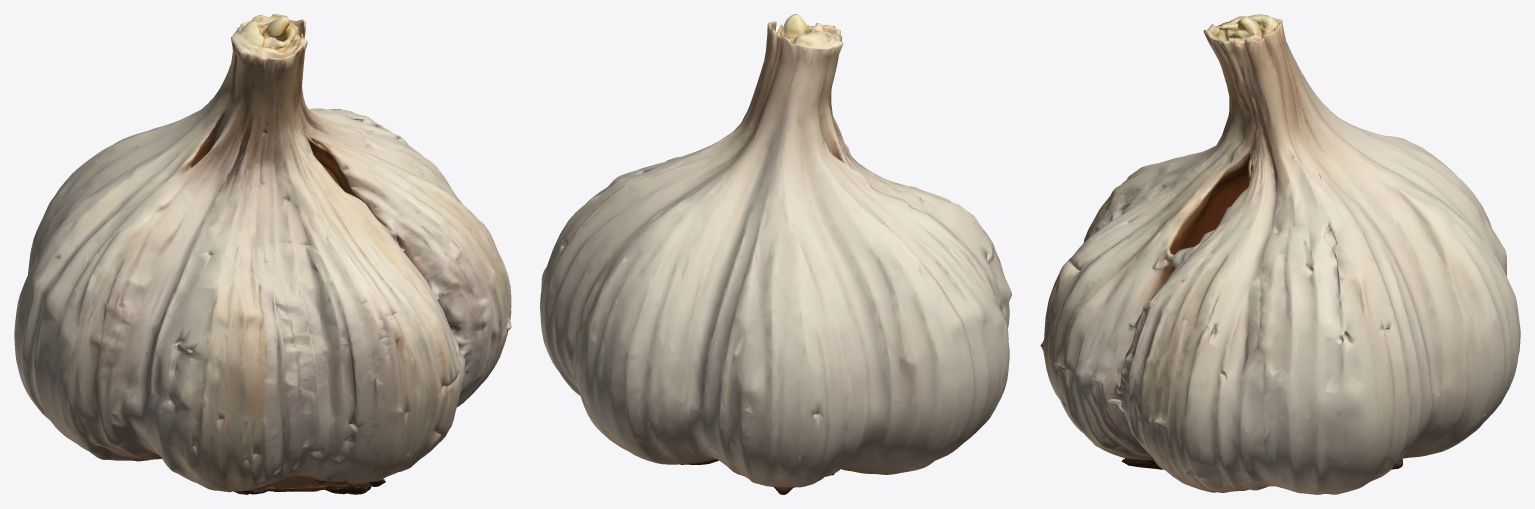
Rendered from garlic.glb.
3 renders of one model, left to right at view 1: azimuth 30°, elevation 25°; view 2: azimuth 150°, elevation 25°; view 3: azimuth 270°, elevation 25°, orthographic. The views are drawn at different scales.
Visible parts, largest first — view 1: geometry_0; view 2: geometry_0; view 3: geometry_0.
Part boxes in pixels (box(x1,y1,x2,y2)): geometry_0: box(14, 14, 511, 494); geometry_0: box(540, 14, 1011, 494); geometry_0: box(1040, 14, 1520, 494).
Bounding box in the file's own units: 0.9794 × 0.9491 × 0.9403.
1 material, 1 textured.
